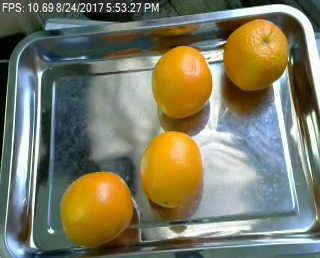Orange: (60, 171, 133, 247), (222, 17, 289, 90), (139, 131, 202, 208), (151, 45, 213, 118)
